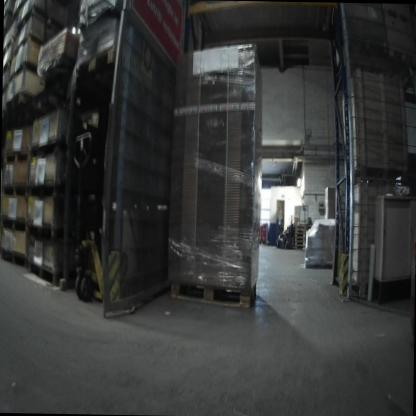pallet: (165, 275, 259, 309), (73, 43, 122, 81), (17, 4, 64, 35), (353, 162, 406, 184), (3, 90, 45, 116), (28, 137, 66, 165), (27, 256, 62, 285), (26, 217, 63, 243), (9, 59, 42, 86), (12, 32, 47, 57), (1, 142, 32, 168), (29, 176, 65, 198), (1, 181, 29, 206), (0, 244, 29, 268), (387, 43, 416, 65), (1, 211, 27, 235), (383, 6, 413, 24), (348, 276, 367, 298), (11, 0, 29, 23), (3, 35, 14, 57), (2, 55, 12, 76), (2, 76, 10, 97), (294, 227, 308, 232), (294, 232, 308, 237), (294, 236, 308, 241), (294, 224, 311, 228), (294, 240, 306, 245), (294, 245, 306, 250)
pallet_truck: (70, 133, 105, 305), (284, 214, 294, 249)
